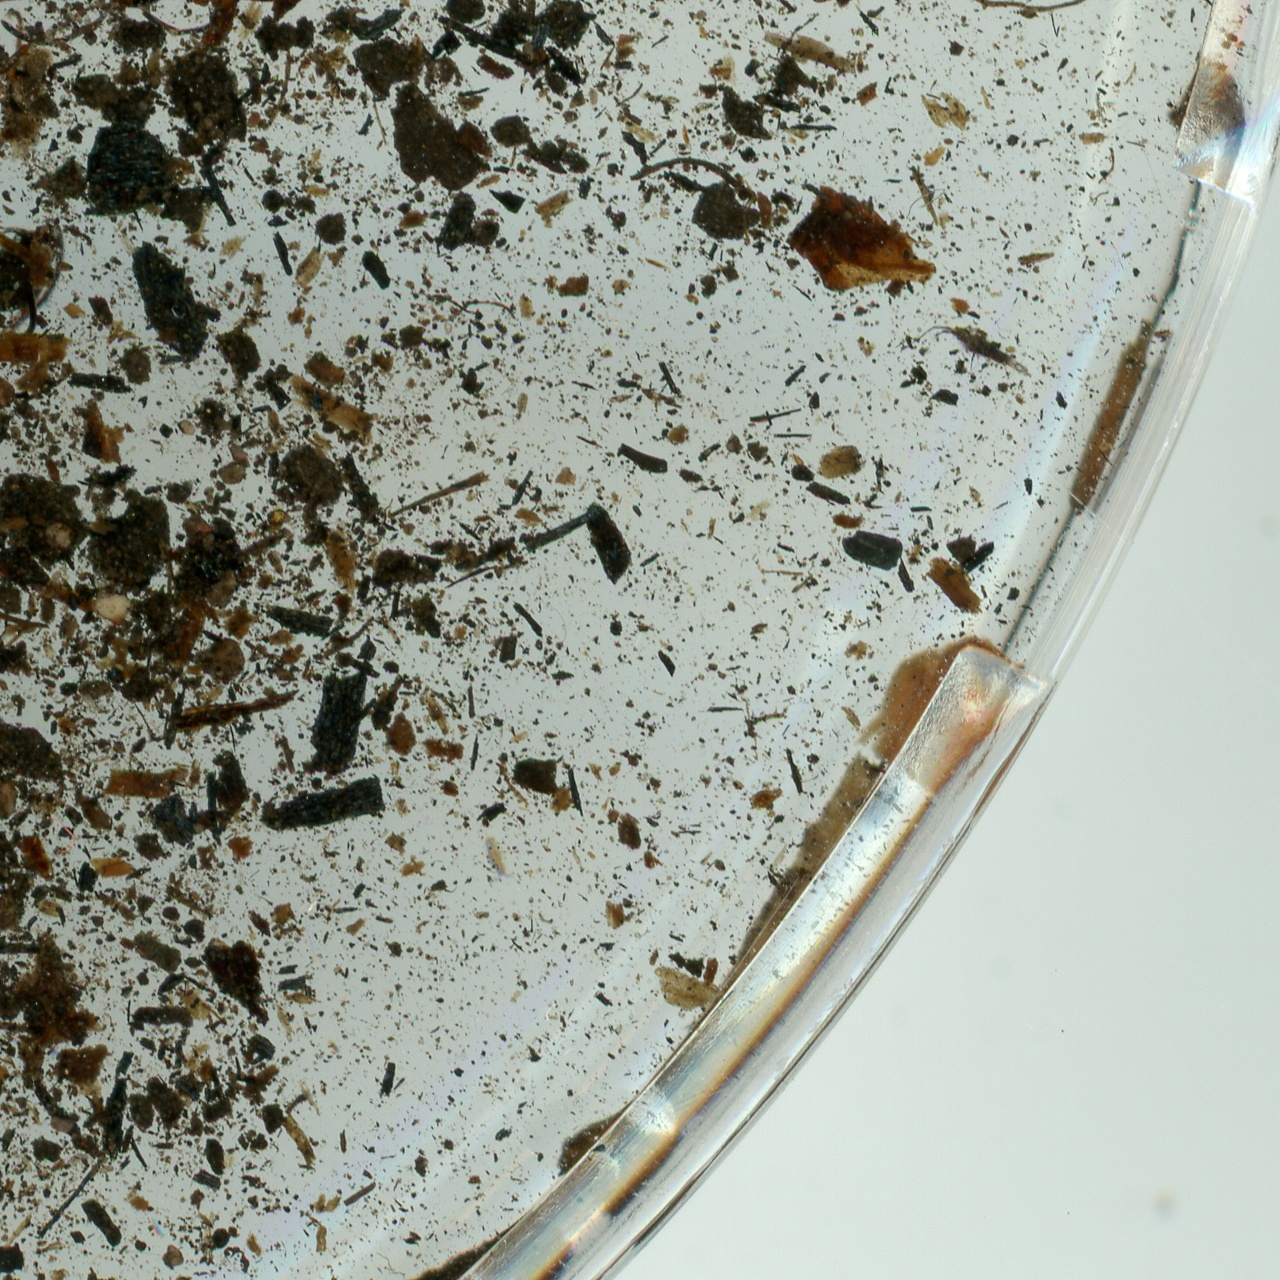arthropod: (915, 304, 1045, 386), (480, 832, 516, 884)
